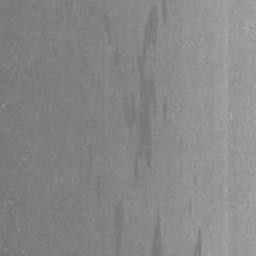Water spot: (122, 0, 169, 182), (102, 14, 119, 68), (111, 202, 125, 256), (148, 210, 164, 256), (191, 227, 204, 256), (87, 145, 93, 173), (187, 197, 193, 215)
